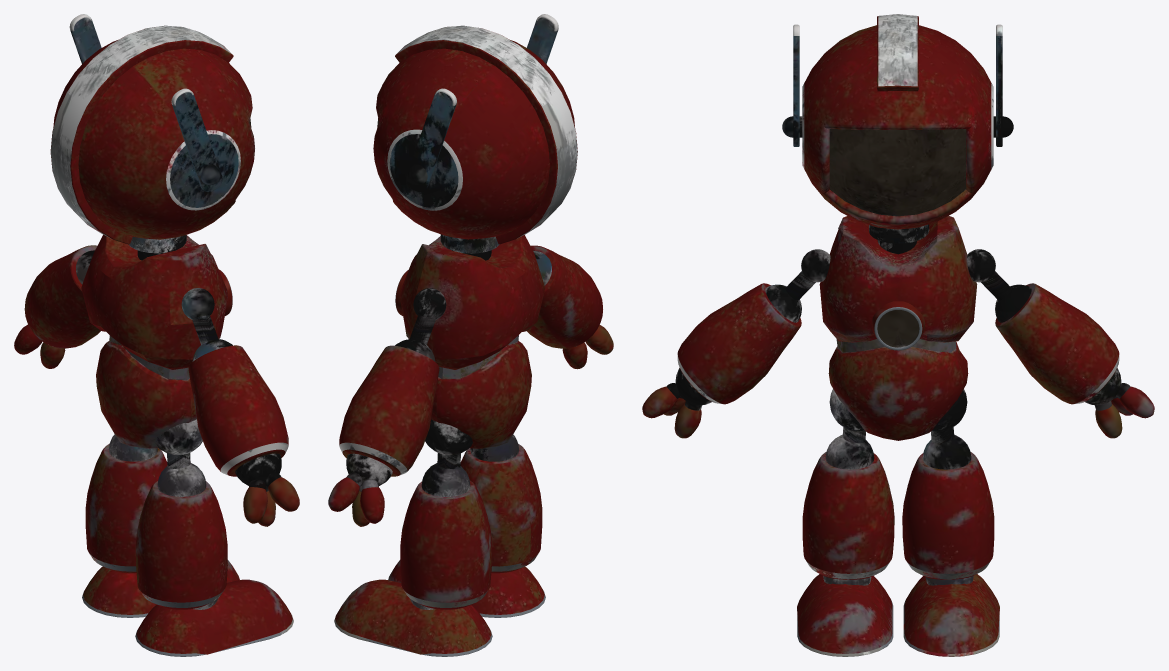
File: robot-optimized.glb
3 views of the same model, side by side, from view 1: azimuth 30°, elevation 25°; view 2: azimuth 150°, elevation 25°; view 3: azimuth 270°, elevation 25° (orthographic).
Size of the model in its own units: 1.75 by 4.83 by 3.86.
3 materials, 3 textured.
